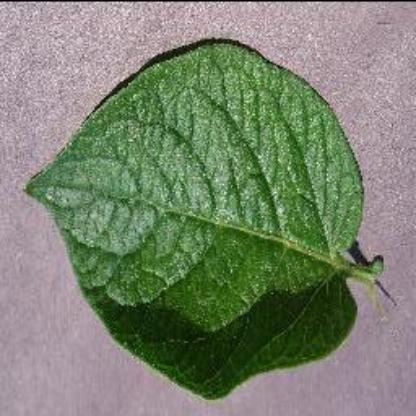Healthy-plant: (26, 39, 390, 395)
